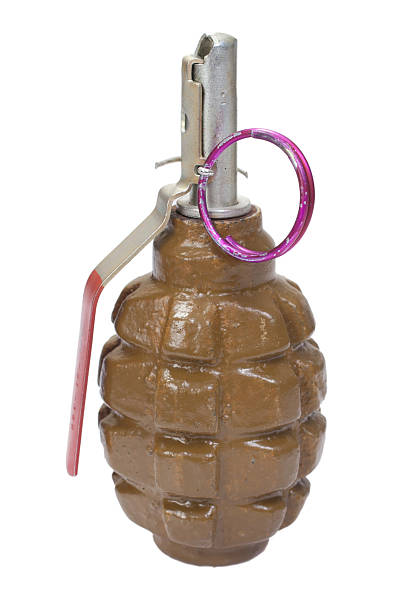e1: (63, 37, 330, 565)
